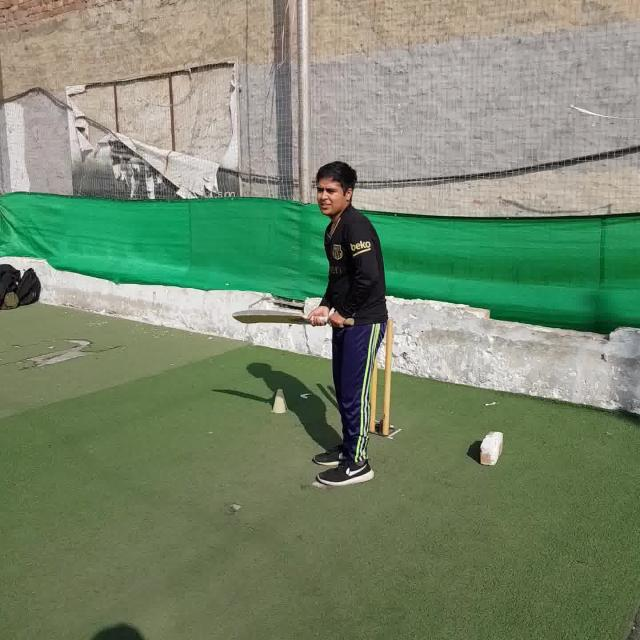bat: (232, 312, 354, 324)
